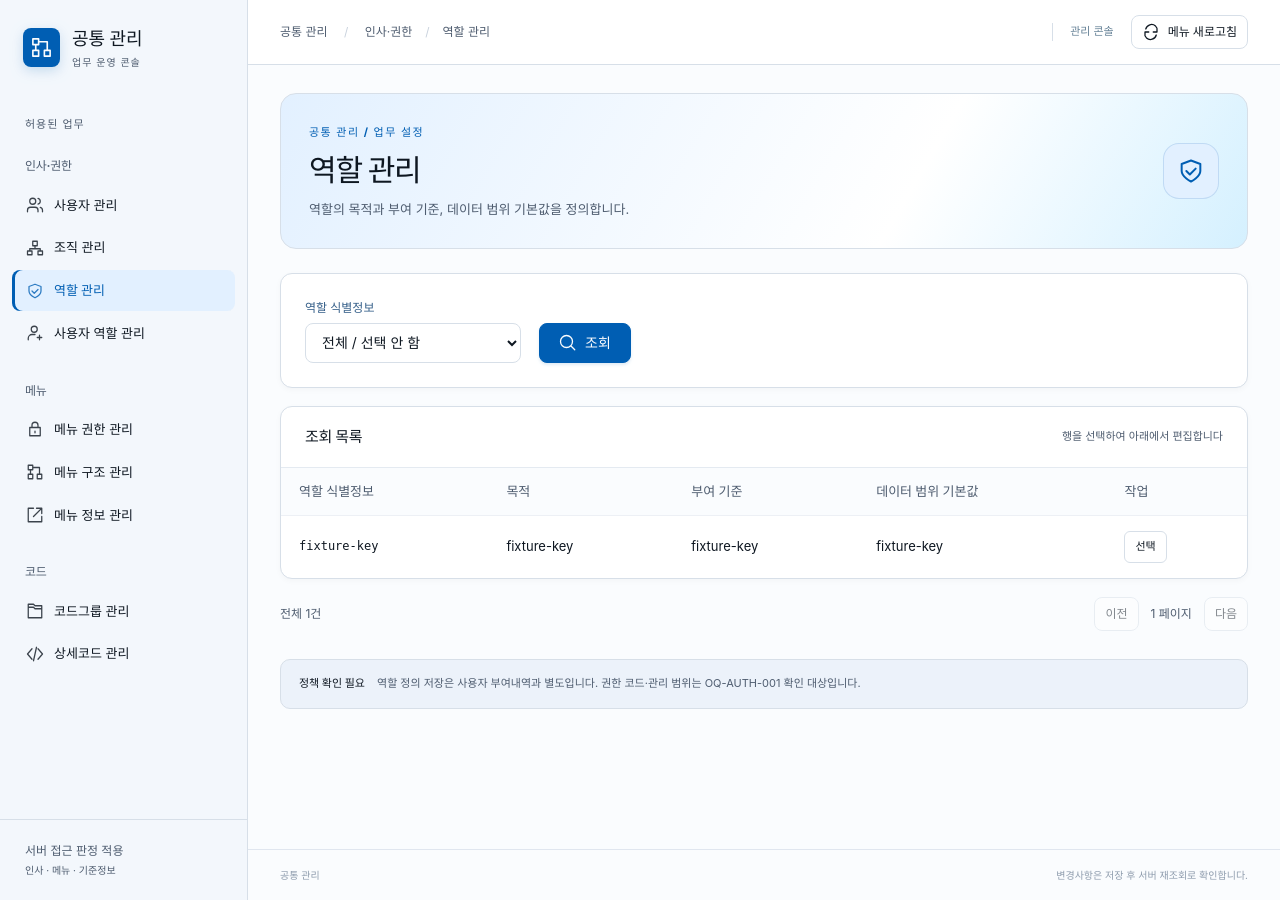
Scenario: 실제 App 접근 판정과 화면 계약 › 저장 403은 이전 보호 데이터와 편집을 숨긴다
Click the button "선택".
click(1146, 547)  # box [1124, 531, 1167, 563]
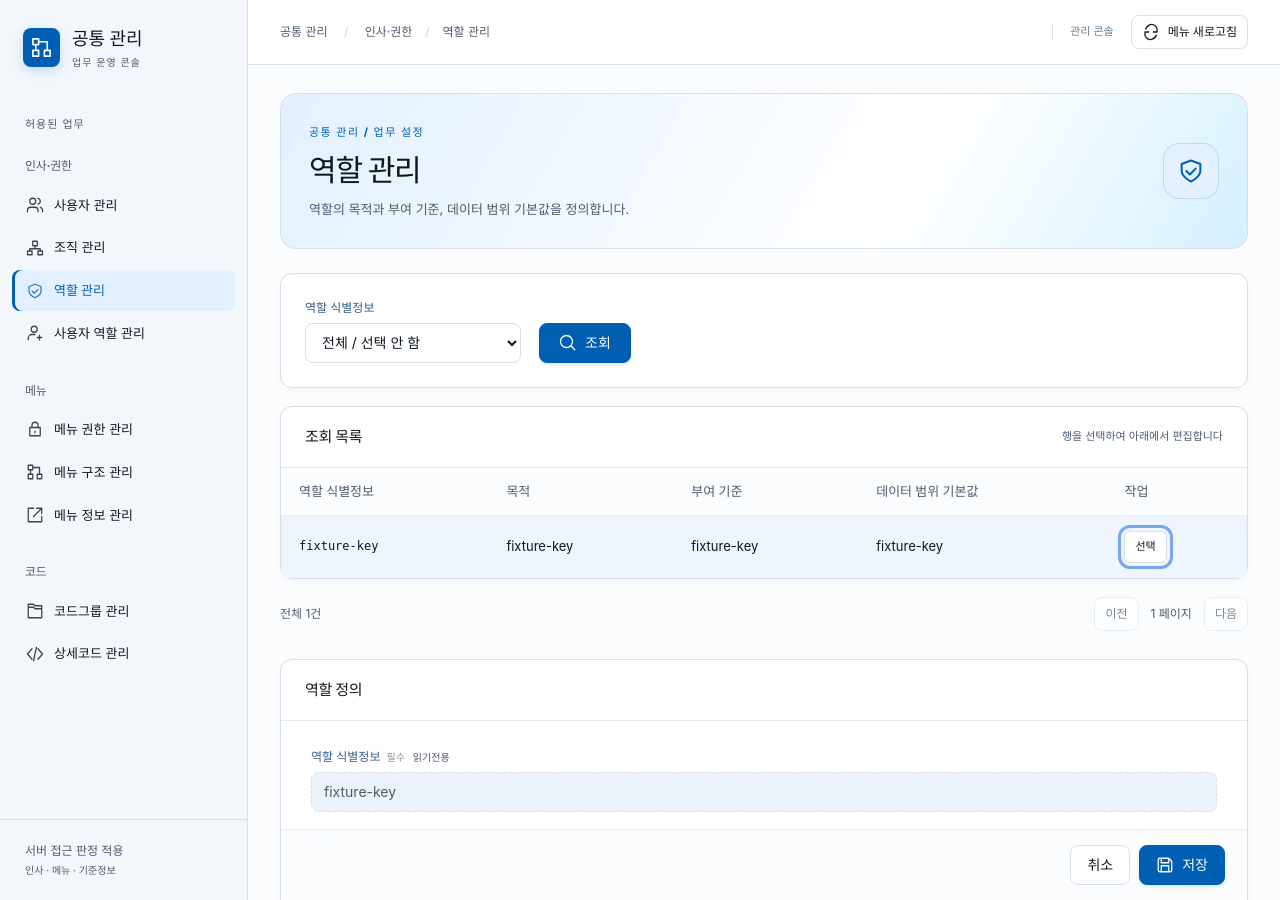
Click the button "저장".
click(1182, 865)  # box [1139, 845, 1225, 885]
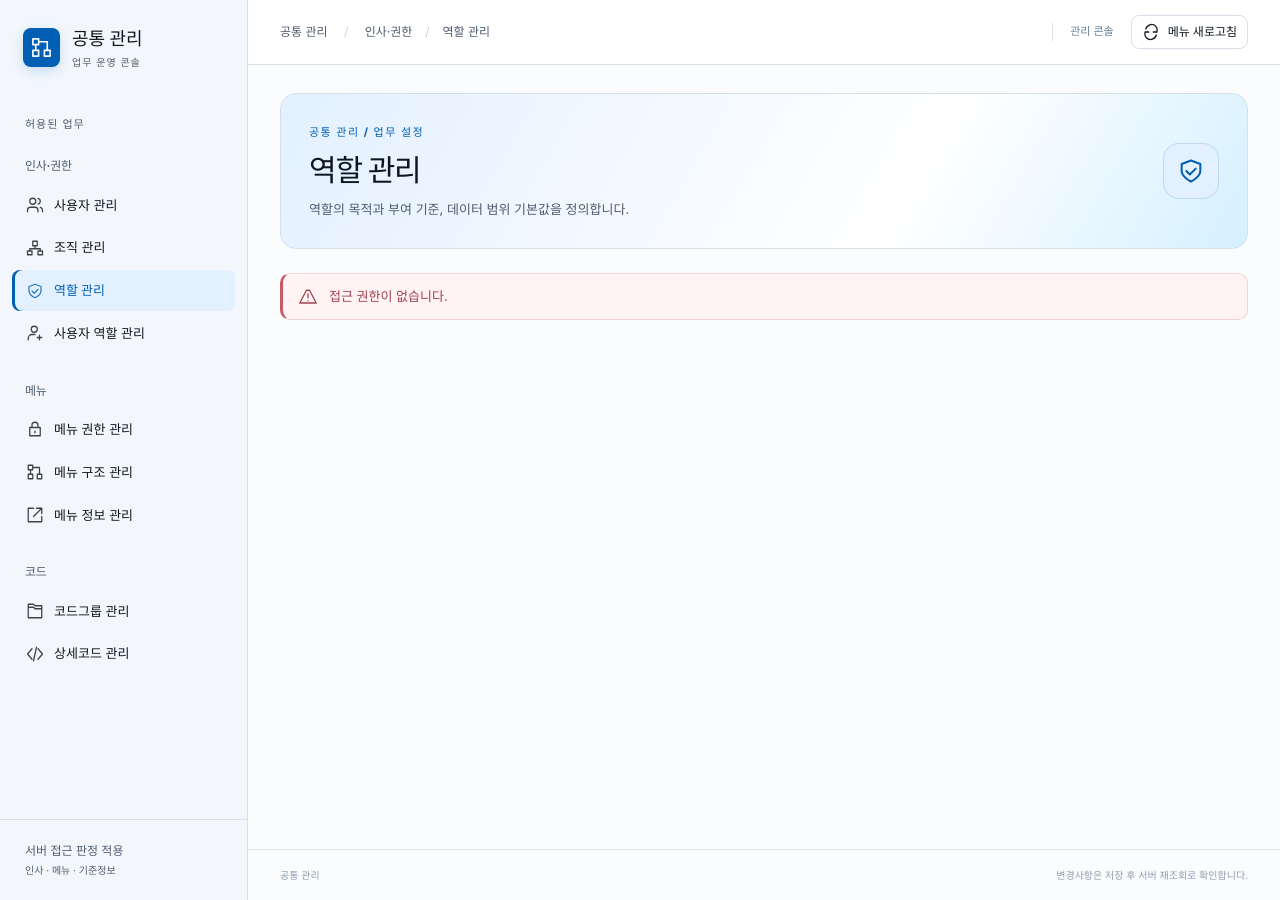
Check: the text "접근 권한이 없습니다." is shown, box [329, 286, 448, 307]
Check: the table is gone
